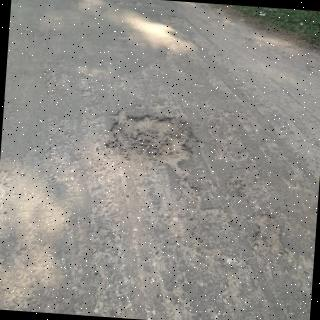pothole: (104, 111, 194, 176)
